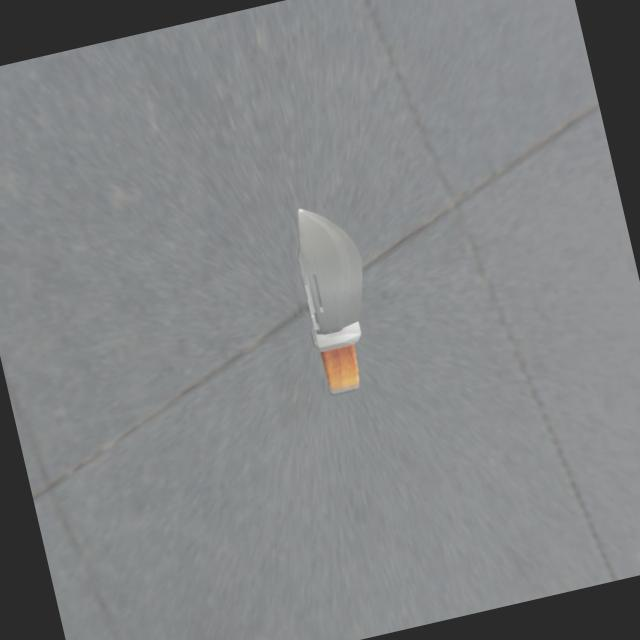knife: (310, 326, 372, 410)
